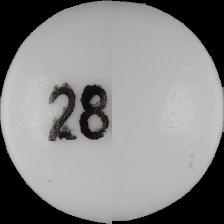59762-2858: (0, 0, 224, 224)
